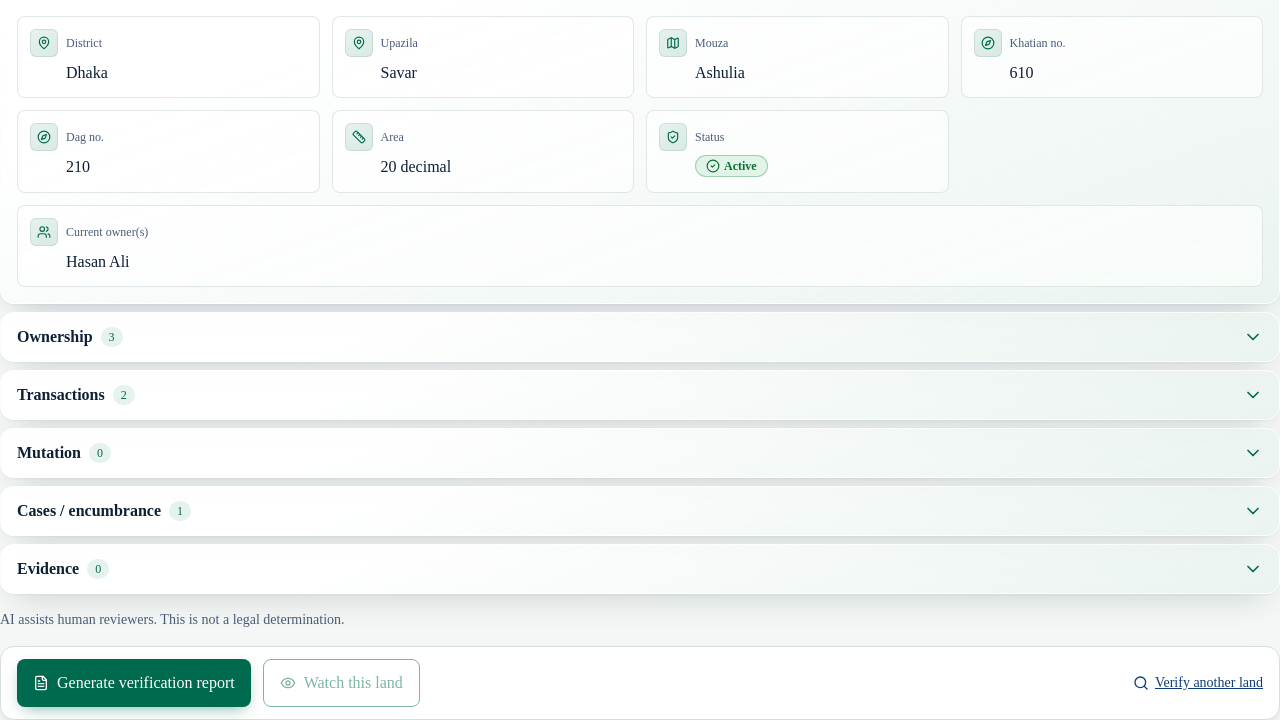
Test: ResultView › shows empty mutation state
(page scrolled)
Click the heading with test id "section-toggle" at (49, 452), box [17,443,1263,463]
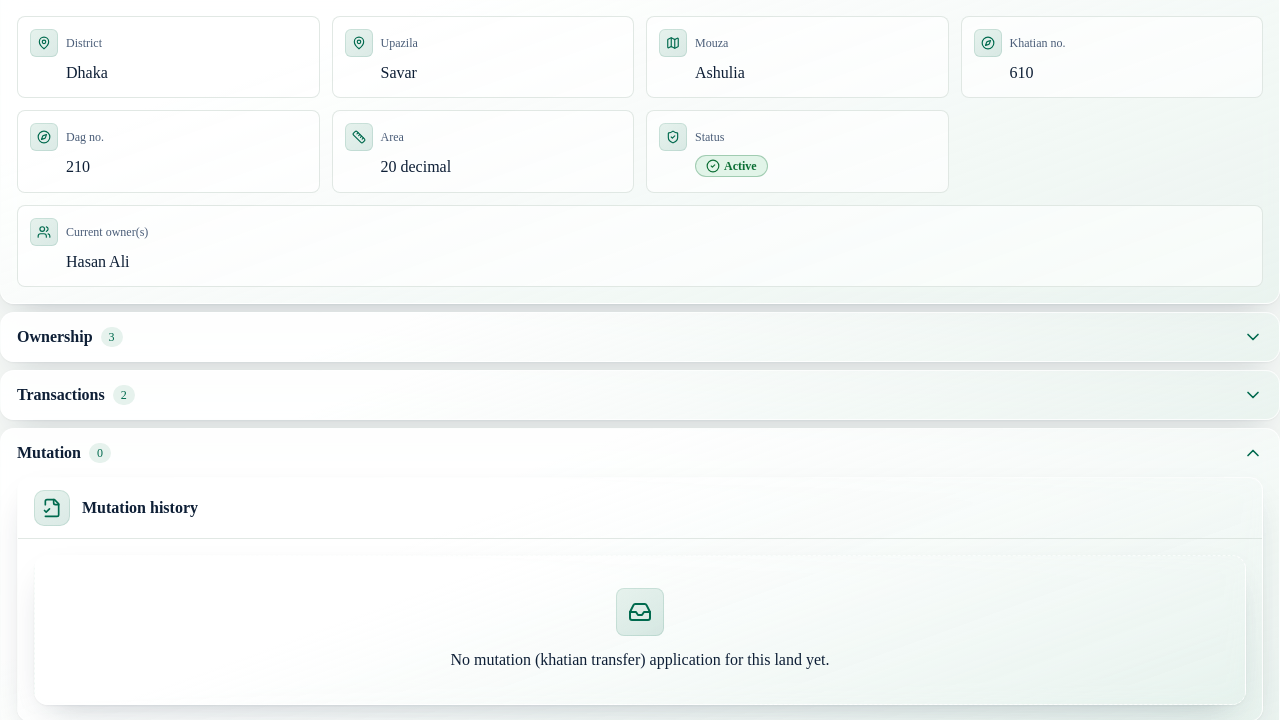
expect the text "No mutation (khatian transfer) application for this land yet." is shown: met, box [450,648,830,672]
